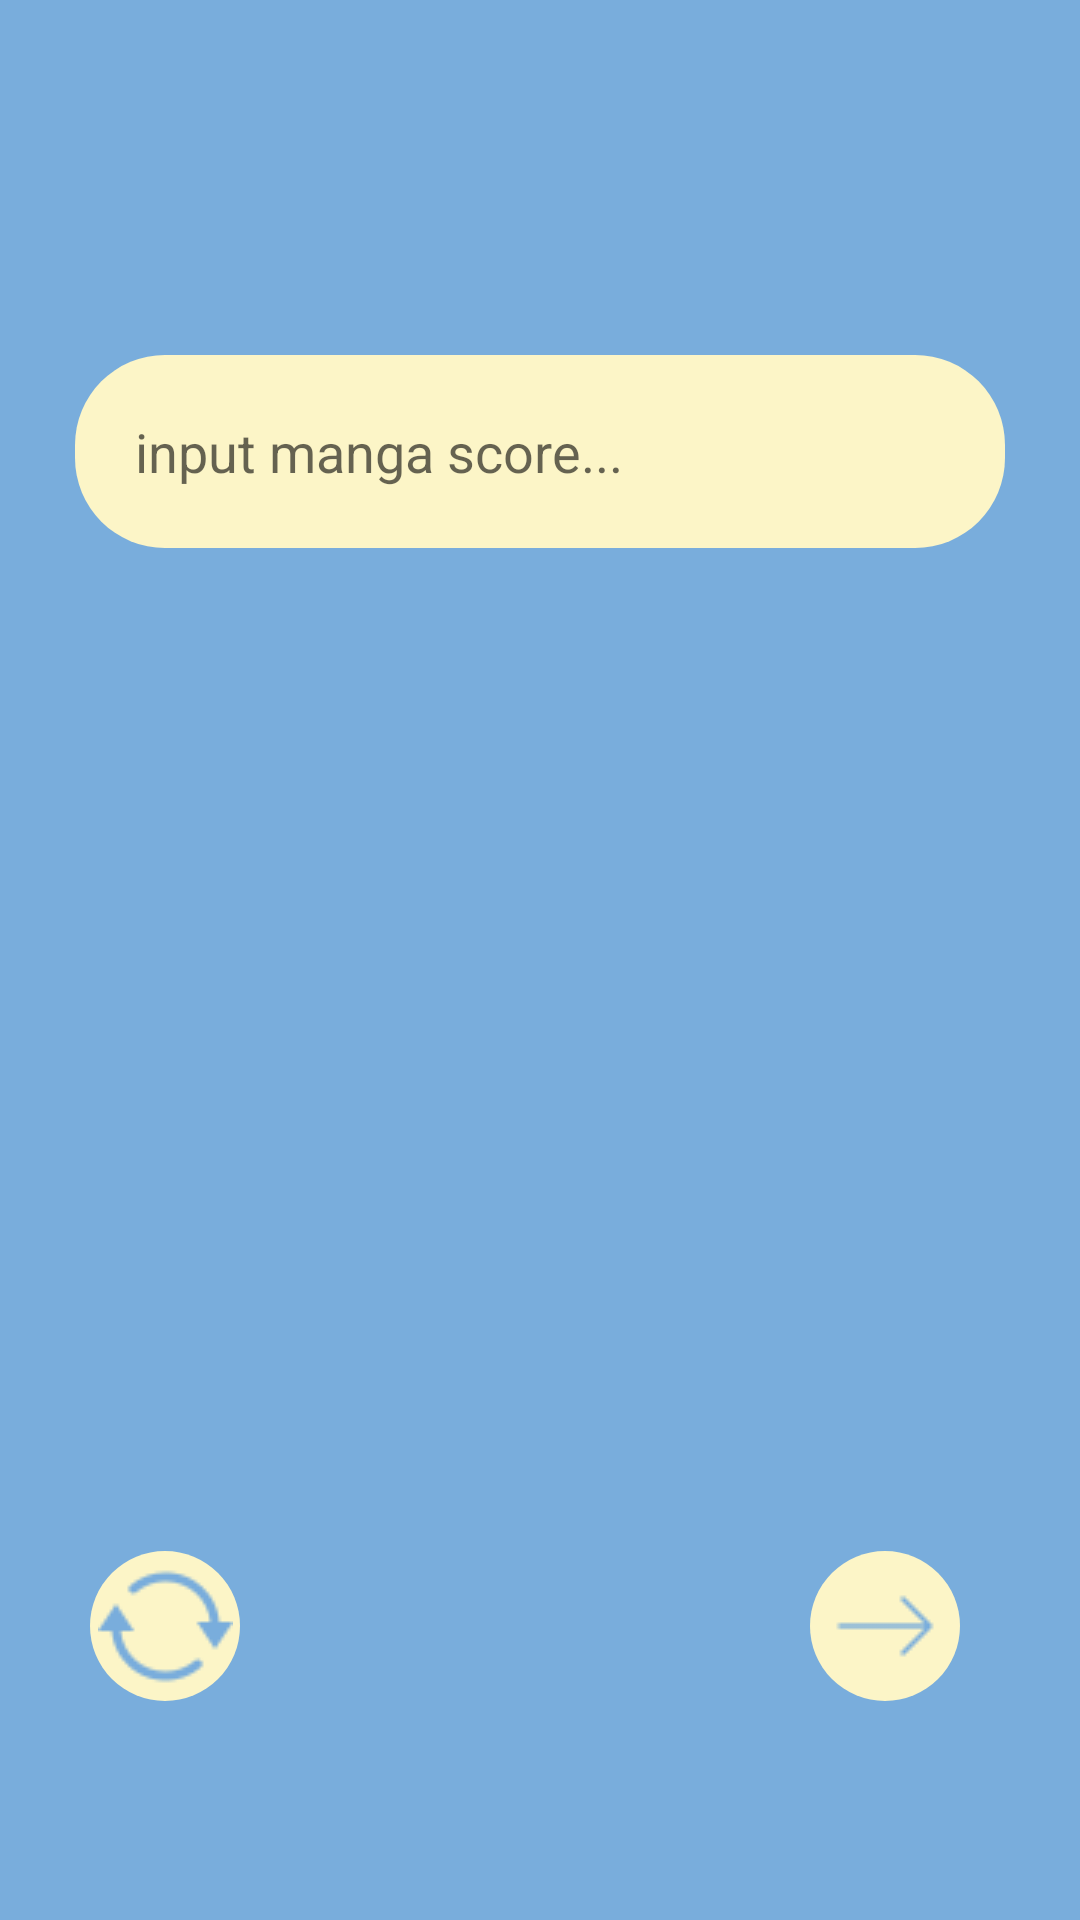

Screen size 1080w x 1920h. Icon name, then its center in pixels as (x,y):
next: (885,1626)
refresh: (165,1626)
